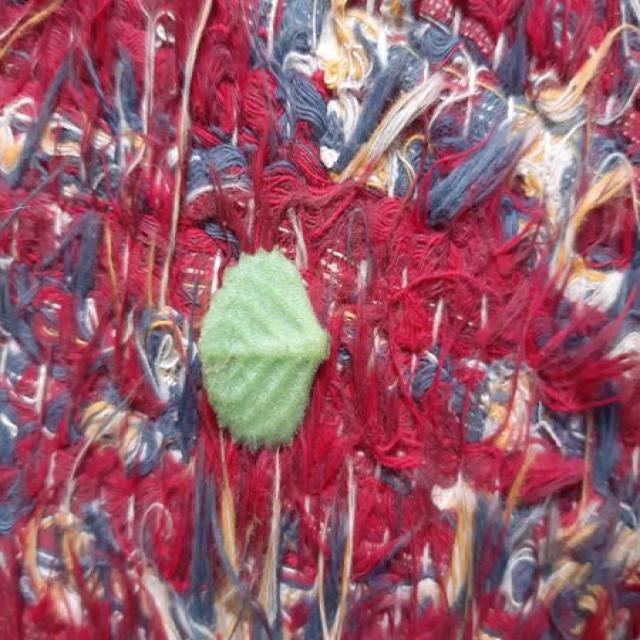doddpathre: (198, 250, 328, 448)
